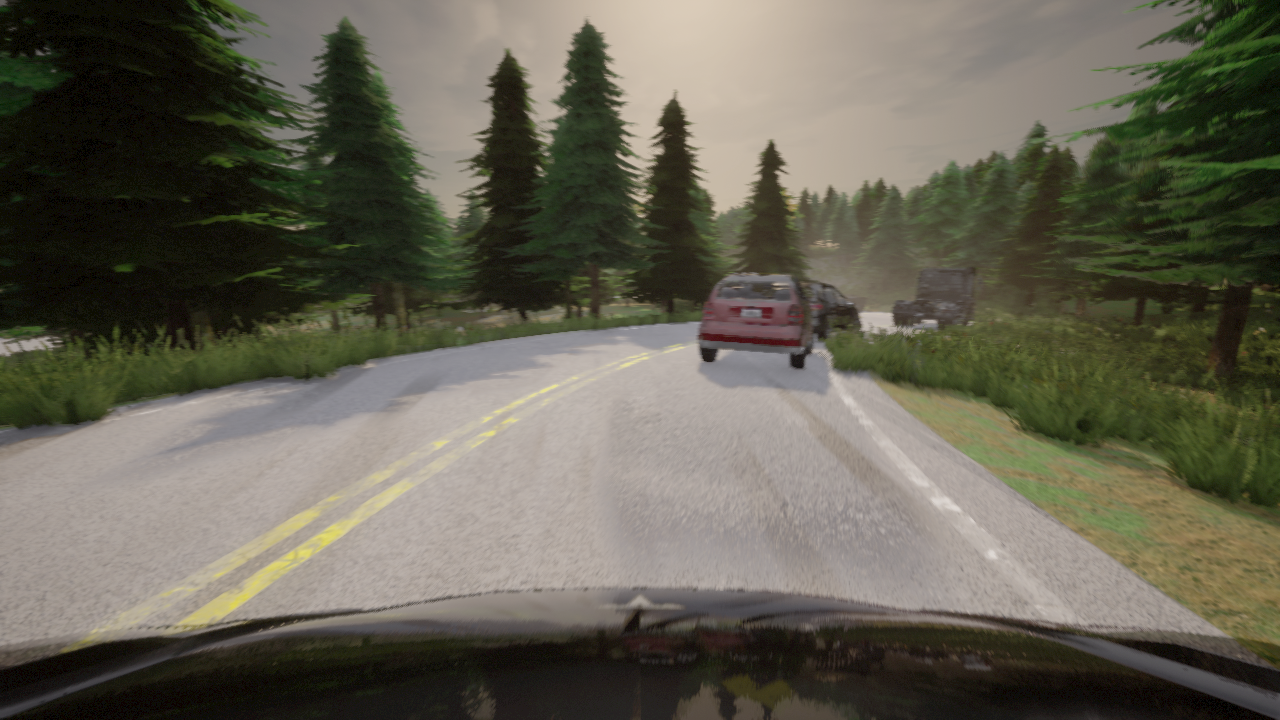cyclist: (0, 588, 1279, 719), (698, 272, 817, 369), (892, 266, 982, 328), (801, 282, 860, 341), (844, 295, 865, 310)
